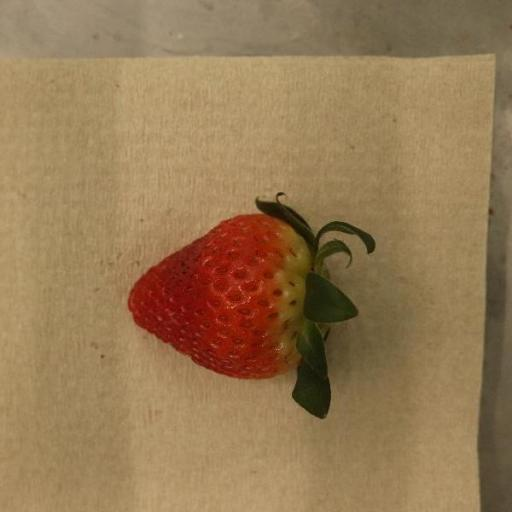Strawberry: (128, 193, 378, 420)
